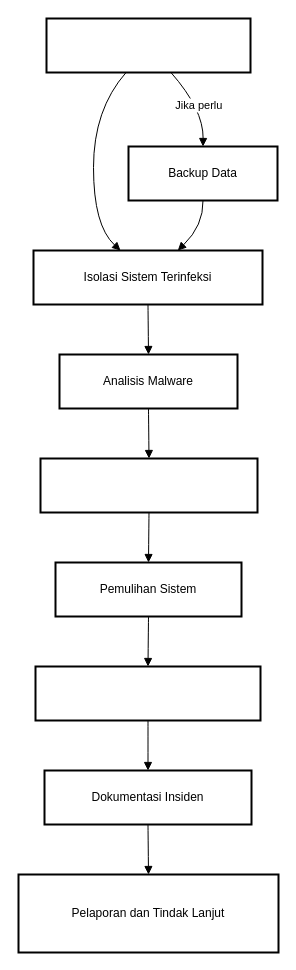
The diagram is 296 pixels wide and 970 high, and some of its shapes have lost their labels. Each missing label, with the centre of its shape:
"Identifikasi Malware" belongs at (x=148, y=45).
"Penghapusan Malware" belongs at (x=148, y=485).
"Peningkatan Keamanan" belongs at (x=147, y=693).
